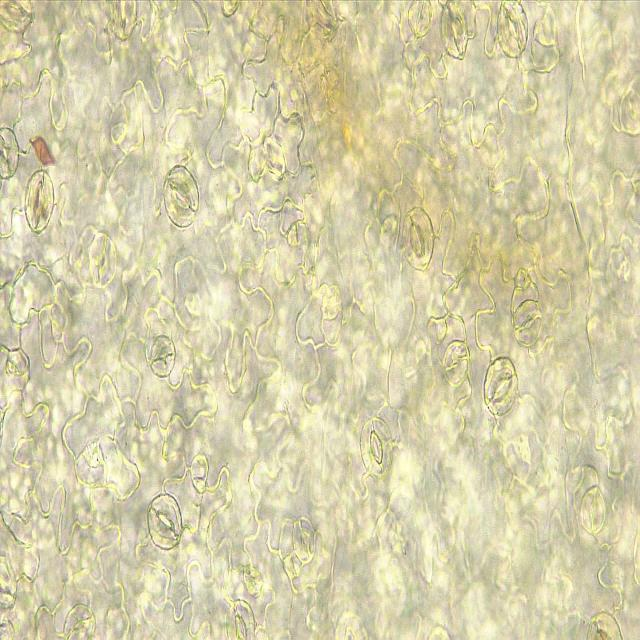Stomata: (162, 164, 200, 230), (401, 205, 435, 271), (483, 356, 519, 416), (146, 492, 183, 550), (360, 416, 394, 478), (23, 169, 54, 235), (495, 0, 529, 60), (440, 0, 469, 60), (88, 232, 117, 289), (60, 599, 96, 640), (512, 298, 542, 347), (225, 597, 257, 640), (148, 332, 177, 378), (107, 0, 137, 44), (585, 608, 626, 640), (291, 515, 317, 565), (0, 0, 34, 36), (0, 124, 20, 181)
